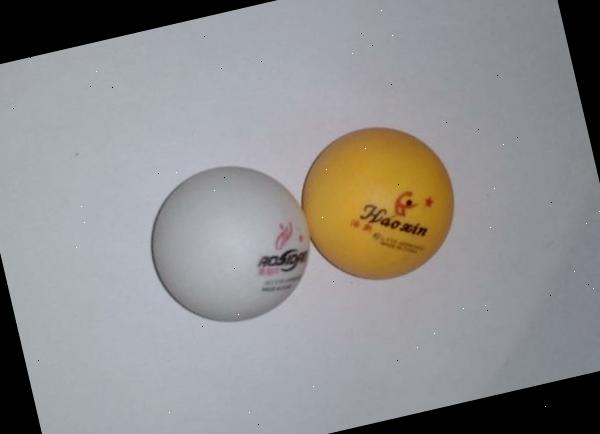ball: (125, 143, 330, 342), (282, 105, 474, 300)
